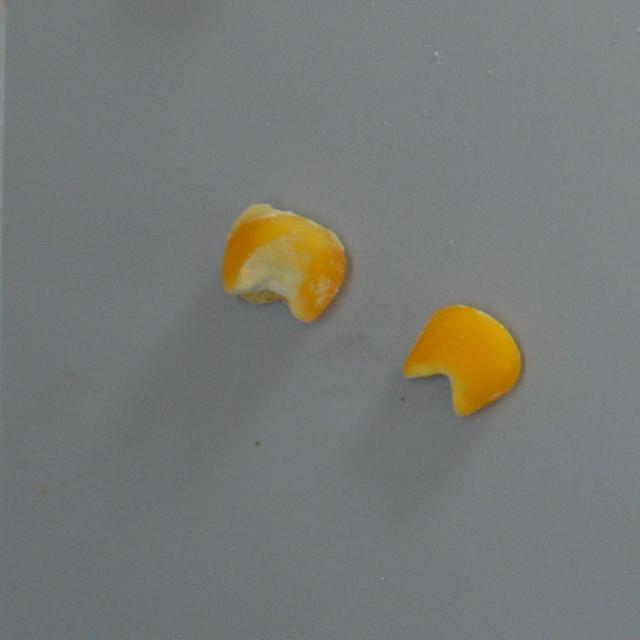no_canjicado: (403, 300, 522, 420)
pelicula: (220, 202, 347, 325)
